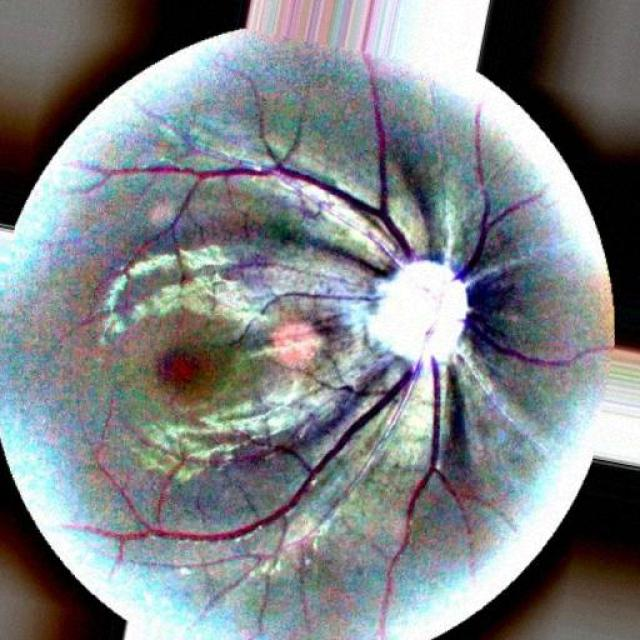Macula: (160, 352, 200, 386)
Nerves: (81, 54, 450, 278), (81, 328, 431, 549), (450, 106, 605, 366), (380, 352, 462, 639)
Optic Disk: (366, 261, 469, 362)
